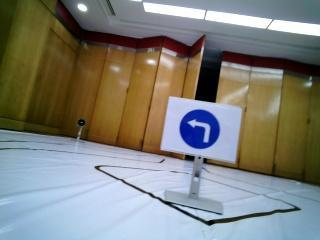left: (171, 105, 234, 156)
